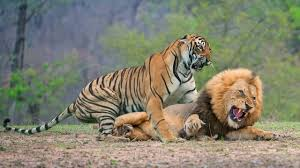lion: (184, 65, 271, 140)
tiger: (1, 30, 214, 145)
